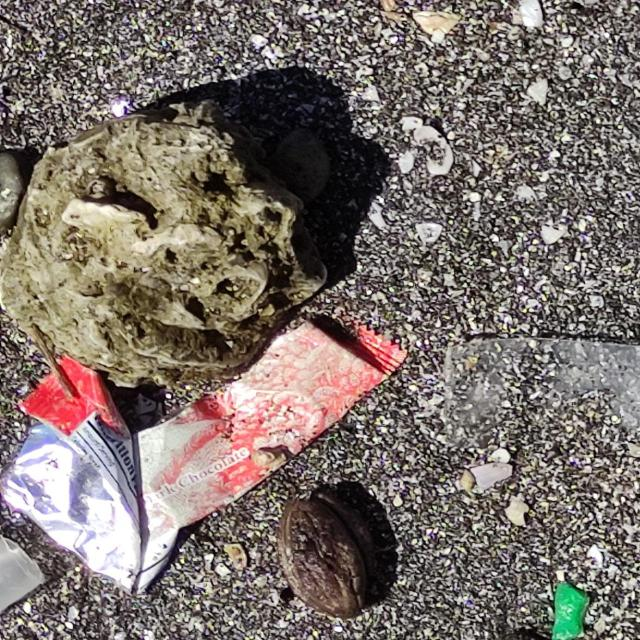litter: (0, 317, 400, 594)
